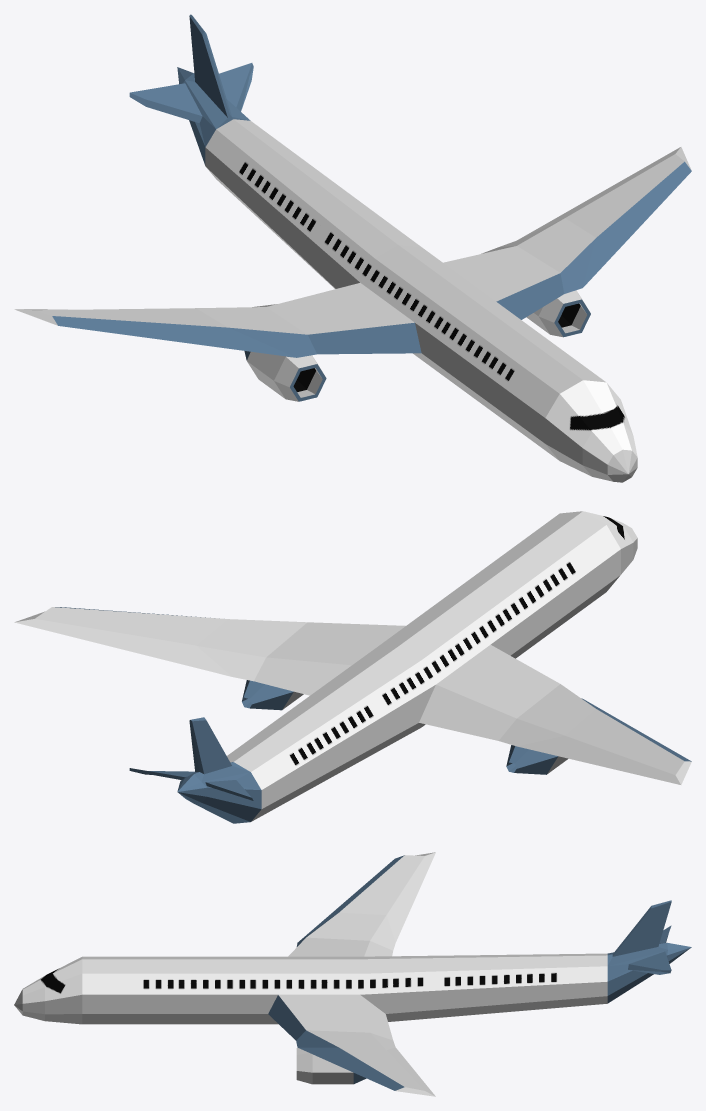
3 renders of one model, top to bottom at view 1: azimuth 30°, elevation 25°; view 2: azimuth 150°, elevation 25°; view 3: azimuth 270°, elevation 25°, orthographic. The views are drawn at different scales.
Parts seen in each view (by area): view 1: polySurface3, polySurface2; view 2: polySurface3, polySurface2; view 3: polySurface3, polySurface2.
Boxes of the visible parts, x1,y1,x2,y2 form: polySurface3: [14, 14, 691, 482]; polySurface2: [52, 129, 691, 464]; polySurface3: [14, 511, 691, 823]; polySurface2: [55, 511, 691, 789]; polySurface3: [14, 852, 691, 1096]; polySurface2: [22, 855, 607, 1090].
Bounding box in the file's own units: 62.22 × 15.59 × 72.88.
